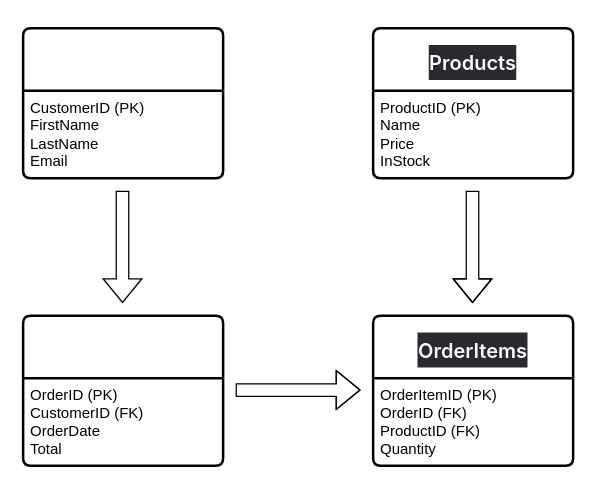
This 595x489 diagram has some shape labels left out. The shapes that lost their labels are listed below. From the top down, each one's box as (x1, y1, x2, y2) in pixels, then its label:
(21, 26, 224, 179): Customers
(21, 314, 224, 466): Orders
